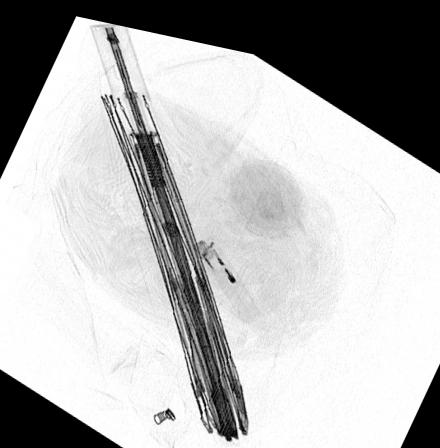Lighter: (191, 225, 255, 302)
